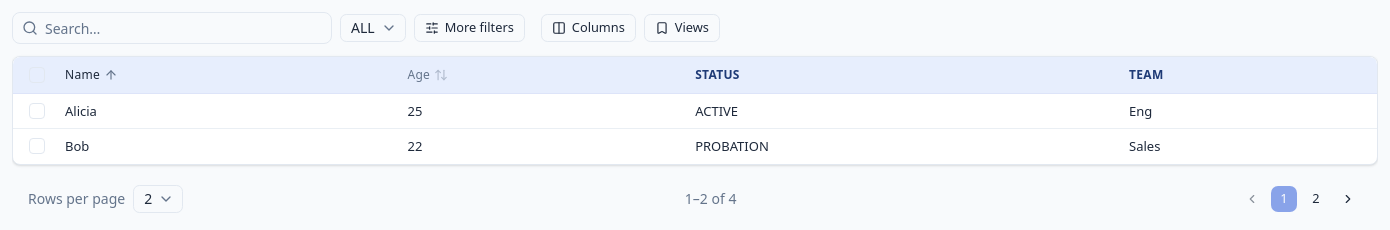
HrisDataTable › pages over the rows it holds
Expected: the text "1–2 of 4" is shown, [685, 189, 736, 209]
Expected: the text "Alicia" is shown, [53, 93, 396, 129]
Step 1. Click the button named "Page 2" → (1316, 199), box [1302, 185, 1330, 213]
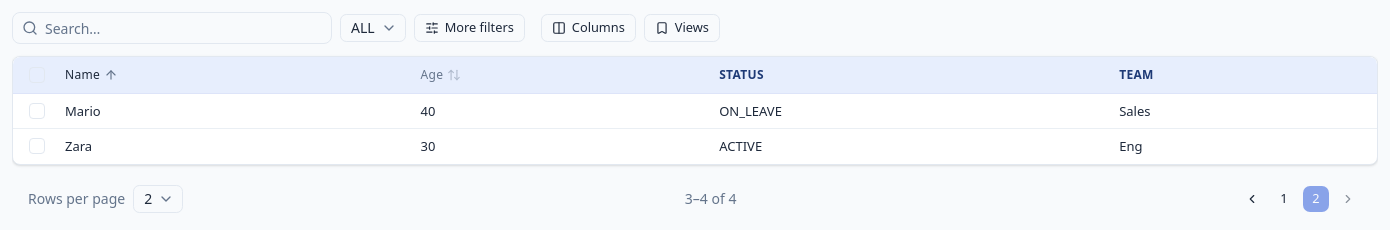
Expected: the text "3–4 of 4" is shown, [685, 189, 736, 209]
Expected: the text "Zara" is shown, [53, 129, 408, 164]
